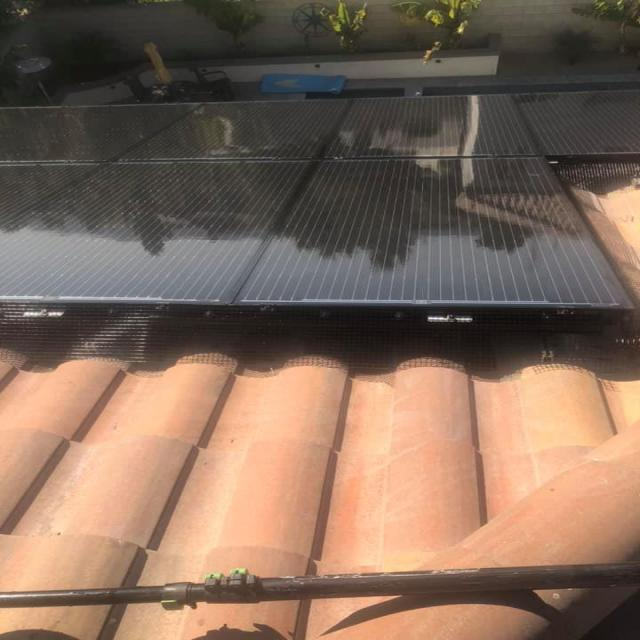no faulty: (238, 156, 624, 306), (2, 162, 299, 300), (118, 100, 345, 160), (326, 92, 526, 159)
